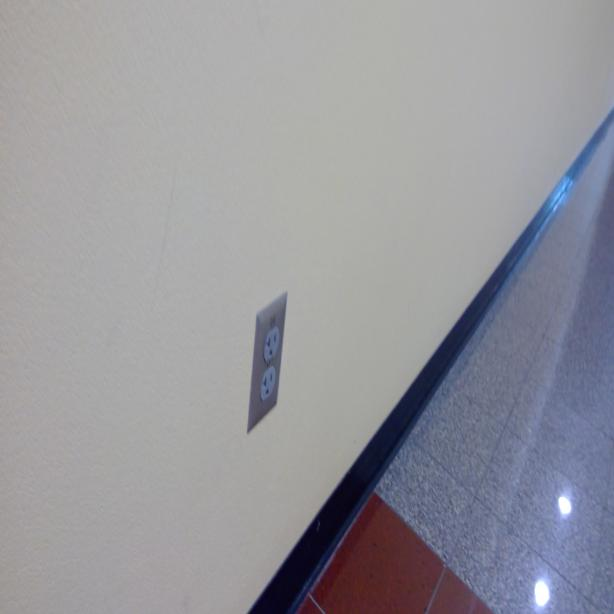typeb: (265, 330, 279, 360), (260, 372, 276, 398)
